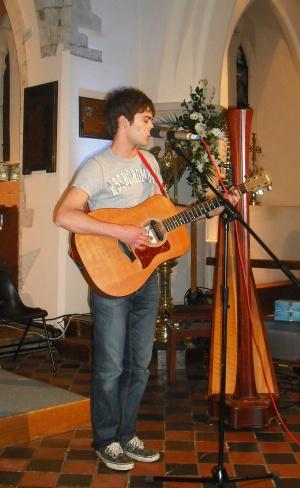person: (55, 87, 241, 472)
